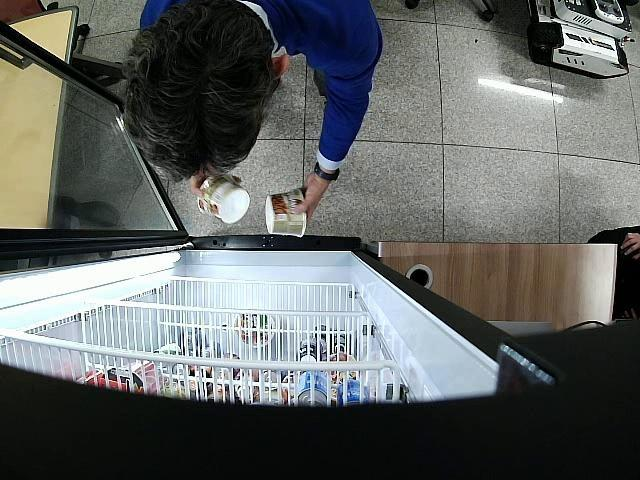03_chapagetti_L: (197, 176, 251, 224), (266, 188, 308, 237)
